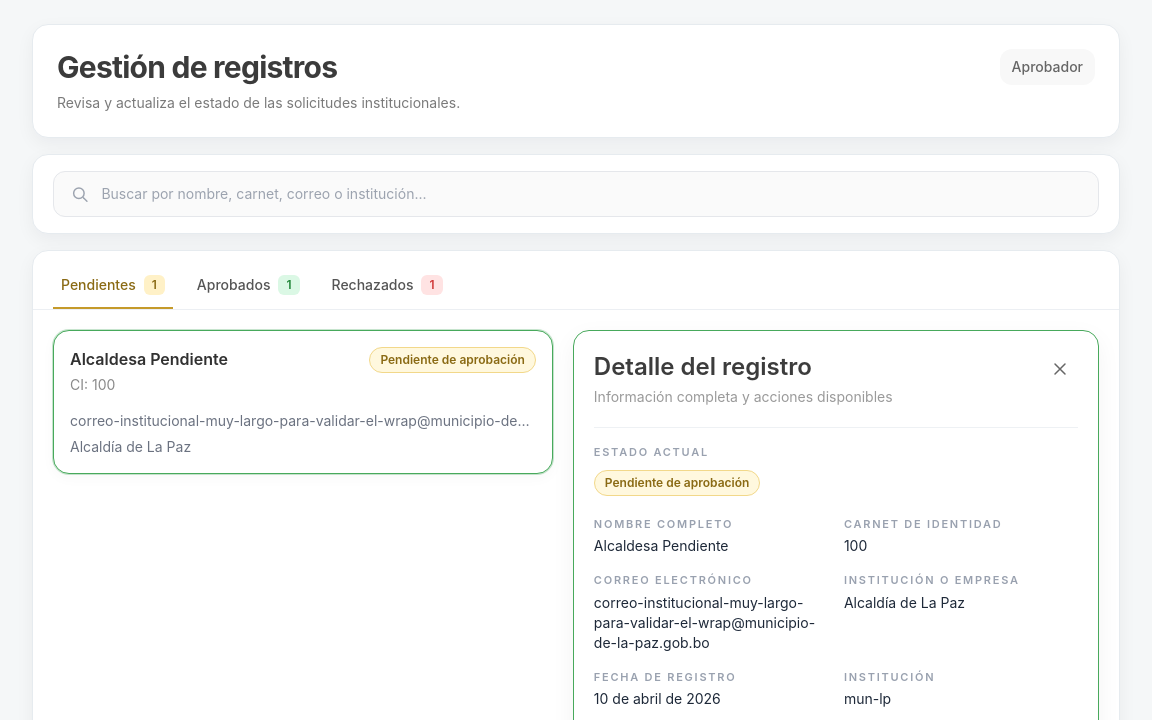
Scenario: MX-10 | aprobaciones de acceso territorial › [MX-10][CON-ACC-P0-001][INTEGRACION] muestra la bandeja territorial con estados, rol, territorio y fechas visibles
Expected: the heading "Gestión de registros" is shown, [57,49,337,85]
Expected: the button "Alcaldesa Pendiente" shows "Alcaldía de La Paz", [53,330,553,474]
Click the button "Aprobados 1" at (248, 286), box [189,263,308,309]
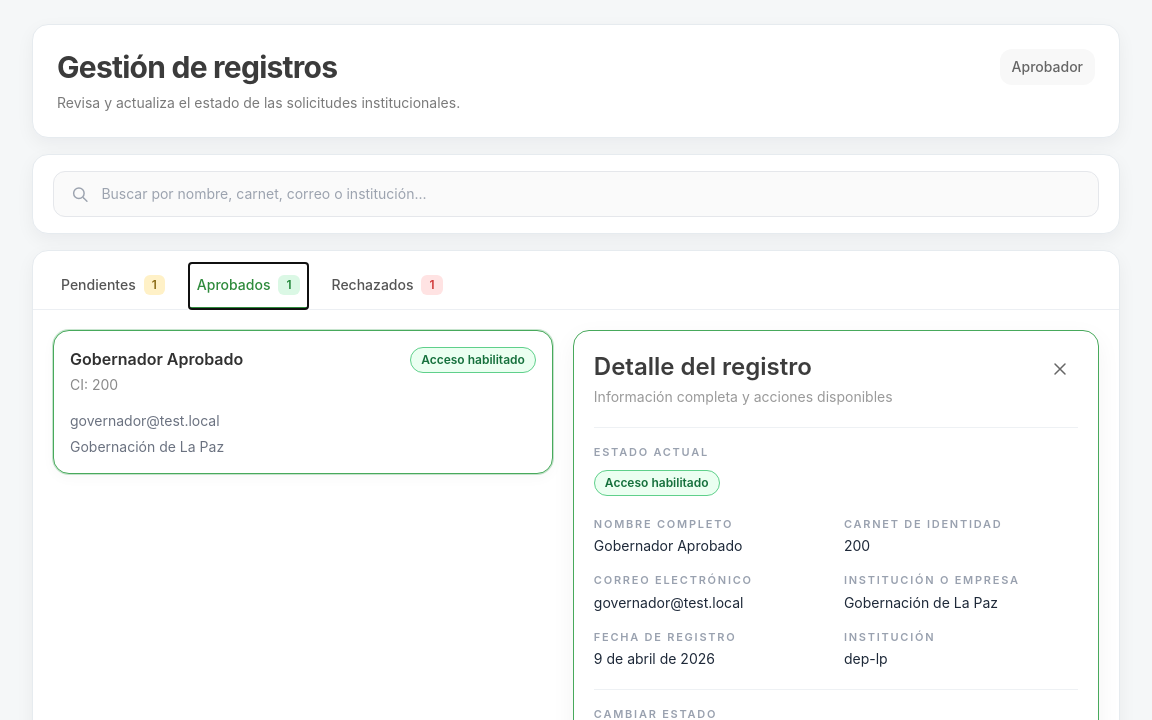
Expected: the button "Gobernador Aprobado" shows "Gobernación de La Paz", [53,330,553,474]
